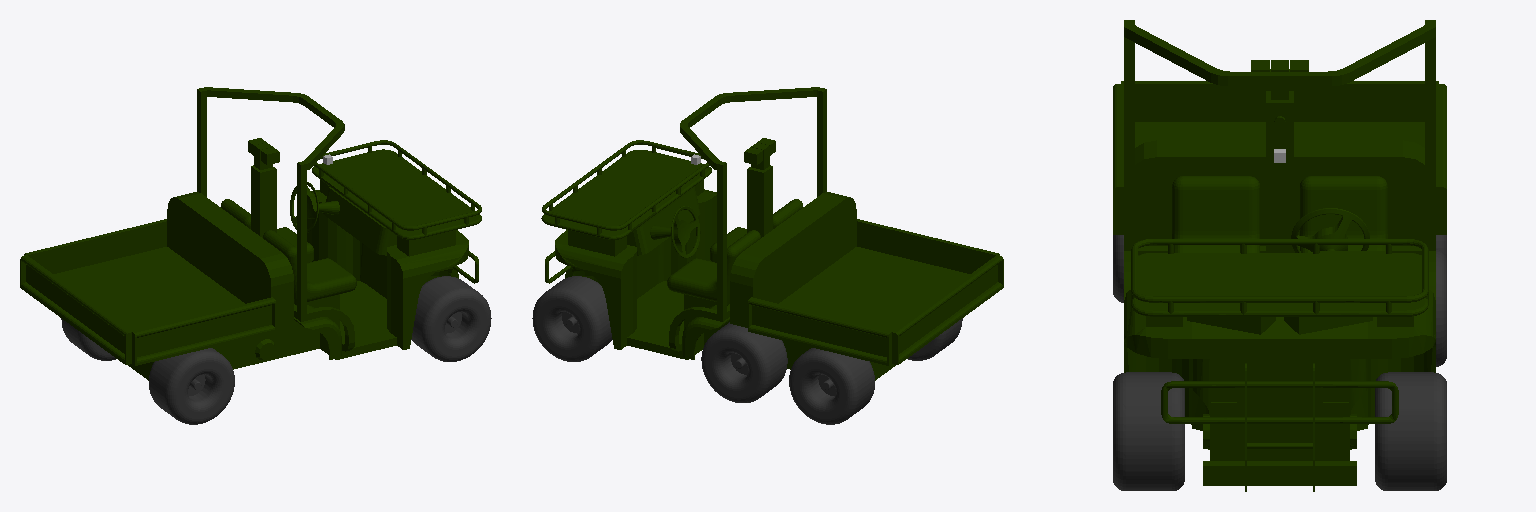
robot.urdf — rgator_model:
<?xml version="1.0" encoding="utf-8"?>
<!-- This URDF was automatically created by SolidWorks to URDF Exporter! Originally created by [author] ([email redacted]) 
     Commit Version: 1.6.0-4-g7f85cfe  Build Version: 1.6.7995.38578
     For more information, please see http://wiki.ros.org/sw_urdf_exporter -->
<robot
  name="rgator_model">
  <link
    name="base_link">
    <inertial>
      <origin
        xyz="-0.037681 0.0005416 0.38334"
        rpy="0 0 0" />
      <mass
        value="1146.5" />
      <inertia
        ixx="186.85"
        ixy="-0.0060656"
        ixz="-42.111"
        iyy="677.82"
        iyz="-0.002351"
        izz="717.22" />
    </inertial>
    <visual>
      <origin
        xyz="0 0 0"
        rpy="0 0 0" />
      <geometry>
        <mesh
          filename="package://rgator_model/meshes/base_link.STL" />
      </geometry>
      <material
        name="">
        <color
          rgba="0.1451 0.24706 0 1" />
      </material>
    </visual>
    <collision>
      <origin
        xyz="0 0 0"
        rpy="0 0 0" />
      <geometry>
        <mesh
          filename="package://rgator_model/meshes/base_link.STL" />
      </geometry>
    </collision>
  </link>
  <link
    name="front_left_wheel_link">
    <inertial>
      <origin
        xyz="4.44089209850063E-16 -0.0223230092959477 0"
        rpy="0 0 0" />
      <mass
        value="68.0202335873534" />
      <inertia
        ixx="1.8451330504804"
        ixy="4.81369033677265E-19"
        ixz="8.04542333548677E-19"
        iyy="2.55906848679382"
        iyz="1.20230823572989E-16"
        izz="1.8451330504804" />
    </inertial>
    <visual>
      <origin
        xyz="0 0 0"
        rpy="0 0 0" />
      <geometry>
        <mesh
          filename="package://rgator_model/meshes/front_left_wheel_link.STL" />
      </geometry>
      <material
        name="">
        <color
          rgba="0.250980392156863 0.250980392156863 0.250980392156863 1" />
      </material>
    </visual>
    <collision>
      <origin
        xyz="0 0 0"
        rpy="0 0 0" />
      <geometry>
        <mesh
          filename="package://rgator_model/meshes/front_left_wheel_link.STL" />
      </geometry>
    </collision>
  </link>
  <joint
    name="front_left_wheel_joint"
    type="continuous">
    <origin
      xyz="0.998679994403652 0.61 0.0899999999999999"
      rpy="0 0 0" />
    <parent
      link="base_link" />
    <child
      link="front_left_wheel_link" />
    <axis
      xyz="0 -1 0" />
  </joint>
  <link
    name="front_right_wheel_link">
    <inertial>
      <origin
        xyz="0 0.0223230092959477 0"
        rpy="0 0 0" />
      <mass
        value="68.0202335873534" />
      <inertia
        ixx="1.8451330504804"
        ixy="-1.08723575624602E-17"
        ixz="-1.01659412021803E-16"
        iyy="2.55906848679382"
        iyz="9.13042816242676E-17"
        izz="1.8451330504804" />
    </inertial>
    <visual>
      <origin
        xyz="0 0 0"
        rpy="0 0 0" />
      <geometry>
        <mesh
          filename="package://rgator_model/meshes/front_right_wheel_link.STL" />
      </geometry>
      <material
        name="">
        <color
          rgba="0.250980392156863 0.250980392156863 0.250980392156863 1" />
      </material>
    </visual>
    <collision>
      <origin
        xyz="0 0 0"
        rpy="0 0 0" />
      <geometry>
        <mesh
          filename="package://rgator_model/meshes/front_right_wheel_link.STL" />
      </geometry>
    </collision>
  </link>
  <joint
    name="front_right_wheel_joint"
    type="continuous">
    <origin
      xyz="0.998679994403652 -0.61 0.0899999999999999"
      rpy="0 0 0" />
    <parent
      link="base_link" />
    <child
      link="front_right_wheel_link" />
    <axis
      xyz="0 -1 0" />
  </joint>
  <link
    name="middle_left_wheel_link">
    <inertial>
      <origin
        xyz="0 -0.0223230092959477 0"
        rpy="0 0 0" />
      <mass
        value="68.0202335873534" />
      <inertia
        ixx="1.8451330504804"
        ixy="-5.93594276904364E-17"
        ixz="-3.57062680215511E-17"
        iyy="2.55906848679382"
        iyz="2.35917879413298E-16"
        izz="1.8451330504804" />
    </inertial>
    <visual>
      <origin
        xyz="0 0 0"
        rpy="0 0 0" />
      <geometry>
        <mesh
          filename="package://rgator_model/meshes/middle_left_wheel_link.STL" />
      </geometry>
      <material
        name="">
        <color
          rgba="0.250980392156863 0.250980392156863 0.250980392156863 1" />
      </material>
    </visual>
    <collision>
      <origin
        xyz="0 0 0"
        rpy="0 0 0" />
      <geometry>
        <mesh
          filename="package://rgator_model/meshes/middle_left_wheel_link.STL" />
      </geometry>
    </collision>
  </link>
  <joint
    name="middle_left_wheel_joint"
    type="continuous">
    <origin
      xyz="-0.331320005596349 0.61 0.0900000000000012"
      rpy="0 0 0" />
    <parent
      link="base_link" />
    <child
      link="middle_left_wheel_link" />
    <axis
      xyz="0 1 0" />
  </joint>
  <link
    name="middle_right_wheel_link">
    <inertial>
      <origin
        xyz="0 0.0223230092959477 -4.44089209850063E-16"
        rpy="0 0 0" />
      <mass
        value="68.0202335873534" />
      <inertia
        ixx="1.8451330504804"
        ixy="-6.79305383740351E-17"
        ixz="2.72115687052549E-17"
        iyy="2.55906848679382"
        iyz="1.24089728291413E-16"
        izz="1.8451330504804" />
    </inertial>
    <visual>
      <origin
        xyz="0 0 0"
        rpy="0 0 0" />
      <geometry>
        <mesh
          filename="package://rgator_model/meshes/middle_right_wheel_link.STL" />
      </geometry>
      <material
        name="">
        <color
          rgba="0.250980392156863 0.250980392156863 0.250980392156863 1" />
      </material>
    </visual>
    <collision>
      <origin
        xyz="0 0 0"
        rpy="0 0 0" />
      <geometry>
        <mesh
          filename="package://rgator_model/meshes/middle_right_wheel_link.STL" />
      </geometry>
    </collision>
  </link>
  <joint
    name="middle_right_wheel_joint"
    type="continuous">
    <origin
      xyz="-0.331320005596348 -0.61 0.0899999999999994"
      rpy="0 0 0" />
    <parent
      link="base_link" />
    <child
      link="middle_right_wheel_link" />
    <axis
      xyz="0 1 0" />
  </joint>
  <link
    name="rear_left_wheel_link">
    <inertial>
      <origin
        xyz="-1.11022302462516E-16 -0.0223230092959477 -4.44089209850063E-16"
        rpy="0 0 0" />
      <mass
        value="68.0202335873534" />
      <inertia
        ixx="1.8451330504804"
        ixy="1.11085477564446E-33"
        ixz="4.56370529158729E-34"
        iyy="2.55906848679382"
        iyz="1.90583886938469E-16"
        izz="1.8451330504804" />
    </inertial>
    <visual>
      <origin
        xyz="0 0 0"
        rpy="0 0 0" />
      <geometry>
        <mesh
          filename="package://rgator_model/meshes/rear_left_wheel_link.STL" />
      </geometry>
      <material
        name="">
        <color
          rgba="0.250980392156863 0.250980392156863 0.250980392156863 1" />
      </material>
    </visual>
    <collision>
      <origin
        xyz="0 0 0"
        rpy="0 0 0" />
      <geometry>
        <mesh
          filename="package://rgator_model/meshes/rear_left_wheel_link.STL" />
      </geometry>
    </collision>
  </link>
  <joint
    name="rear_left_wheel_joint"
    type="continuous">
    <origin
      xyz="-1.02132000559635 0.61 0.0899999999999999"
      rpy="0 0 0" />
    <parent
      link="base_link" />
    <child
      link="rear_left_wheel_link" />
    <axis
      xyz="0 1 0" />
  </joint>
  <link
    name="rear_right_wheel_link">
    <inertial>
      <origin
        xyz="-1.11022302462516E-16 0.0223230092959477 0"
        rpy="0 0 0" />
      <mass
        value="68.0202335873534" />
      <inertia
        ixx="1.8451330504804"
        ixy="-2.06161374086158E-17"
        ixz="-8.17398264338227E-17"
        iyy="2.55906848679382"
        iyz="2.5195914990781E-16"
        izz="1.8451330504804" />
    </inertial>
    <visual>
      <origin
        xyz="0 0 0"
        rpy="0 0 0" />
      <geometry>
        <mesh
          filename="package://rgator_model/meshes/rear_right_wheel_link.STL" />
      </geometry>
      <material
        name="">
        <color
          rgba="0.250980392156863 0.250980392156863 0.250980392156863 1" />
      </material>
    </visual>
    <collision>
      <origin
        xyz="0 0 0"
        rpy="0 0 0" />
      <geometry>
        <mesh
          filename="package://rgator_model/meshes/rear_right_wheel_link.STL" />
      </geometry>
    </collision>
  </link>
  <joint
    name="rear_right_wheel_joint"
    type="continuous">
    <origin
      xyz="-1.02132000559635 -0.61 0.0900000000000003"
      rpy="0 0 0" />
    <parent
      link="base_link" />
    <child
      link="rear_right_wheel_link" />
    <axis
      xyz="0 1 0" />
  </joint>

  <joint name="gem_front_camera_joint" type="fixed">
    <origin xyz="0.394 0 1.19" rpy="0 0 0"/>
    <parent link="base_link"/>
    <child link="front_single_camera_link"/>
  </joint>

  <link name="front_single_camera_link">
    <collision>
      <origin xyz="0 0 0" rpy="0 0 0"/>
      <geometry>
        <box size="0.05 0.05 0.05"/>
      </geometry>
    </collision>
    <visual>
      <origin xyz="0 0 0" rpy="0 0 0"/>
      <geometry>
        <box size="0.05 0.05 0.05"/>
      </geometry>
      <material name="red"/>
    </visual>
    <inertial>
      <mass value="1e-5" />
      <origin xyz="0 0 0" rpy="0 0 0"/>
      <inertia ixx="1e-6" ixy="0" ixz="0" iyy="1e-6" iyz="0" izz="1e-6" />
    </inertial>
  </link>


  <!-- IMU -->
  <link name="IMU_link">

    <collision>
      <origin xyz="0 0 0" rpy="0 0 0"/>
      <geometry>
        <box size="0.1 0.1 0.1"/>
      </geometry>
    </collision>

    <visual>
      <origin xyz="0 0 0" rpy="0 0 0"/>
      <geometry>
        <box size="0.1 0.1 0.1"/>
      </geometry>
      <material name="red"/>
    </visual>

    <inertial>
      <origin xyz="0 0 0" rpy="0 0 0"/>
      <mass value="1"/>
      <inertia
        ixx="1.0" ixy="0.0" ixz="0.0"
        iyy="1.0" iyz="0.0"
        izz="1.0"/>
    </inertial>

  </link>

  <joint name="IMU_joint" type="fixed">
    <origin xyz="-0.246 0 0.05" rpy="0 0 -1.5708"/>
    <parent link="base_link"/>
    <child link="IMU_link"/>
  </joint>

  <!-- GPS -->
  <link name="GPS_link">
    <collision>
      <origin xyz="0 0 0" rpy="0 0 0"/>
      <geometry>
        <box size="0.1 0.1 0.1"/>
      </geometry>
    </collision>
    <visual>
      <origin xyz="0 0 0" rpy="0 0 0"/>
      <geometry>
        <box size="0.1 0.1 0.1"/>
      </geometry>
      <material name="red"/>
    </visual>
    <inertial>
      <origin xyz="0 0 0" rpy="0 0 0"/>
      <mass value="1"/>
      <inertia
        ixx="1.0" ixy="0.0" ixz="0.0"
        iyy="1.0" iyz="0.0"
        izz="1.0"/>
    </inertial>
  </link>


  <joint name="GPS_joint" type="fixed">
    <origin xyz="-0.246 0 0.05" rpy="0 0 0"/>
    <parent link="base_link"/>
    <child link="GPS_link"/>
  </joint>

</robot>

--- What the picture shows (computed from the rendered views, not written in the file) ---
The picture shows the robot from 3 angles, left to right: view 1: azimuth 30°, elevation 25°; view 2: azimuth 150°, elevation 25°; view 3: azimuth 270°, elevation 25°; orthographic projection.
Robot: rgator_model — 10 links, 9 joints (6 continuous, 3 fixed); root link base_link; default pose: all joints at 0.
Visible links, largest first — view 1: base_link, front_right_wheel_link, rear_right_wheel_link, rear_left_wheel_link; view 2: base_link, front_left_wheel_link, middle_left_wheel_link, rear_left_wheel_link, rear_right_wheel_link; view 3: base_link, front_right_wheel_link, front_left_wheel_link, middle_left_wheel_link, rear_right_wheel_link.
Link boxes in pixels (<box>): base_link: <box>20,87,481,380</box>; front_right_wheel_link: <box>411,276,491,361</box>; rear_right_wheel_link: <box>149,348,234,424</box>; rear_left_wheel_link: <box>61,318,115,360</box>; base_link: <box>541,87,1003,380</box>; front_left_wheel_link: <box>532,276,612,361</box>; middle_left_wheel_link: <box>701,322,787,402</box>; rear_left_wheel_link: <box>789,348,874,424</box>; rear_right_wheel_link: <box>908,318,962,360</box>; base_link: <box>1113,20,1446,491</box>; front_right_wheel_link: <box>1113,372,1184,490</box>; front_left_wheel_link: <box>1375,372,1446,490</box>; middle_left_wheel_link: <box>1436,249,1446,366</box>; rear_right_wheel_link: <box>1113,235,1123,302</box>.
Size in the robot's own frame: 2.95 by 1.52 by 1.76 metres.
6 mesh visuals loaded from 7 distinct referenced files (6 binary STL); not drawn: 1 (reference not matched to a file when rendering).